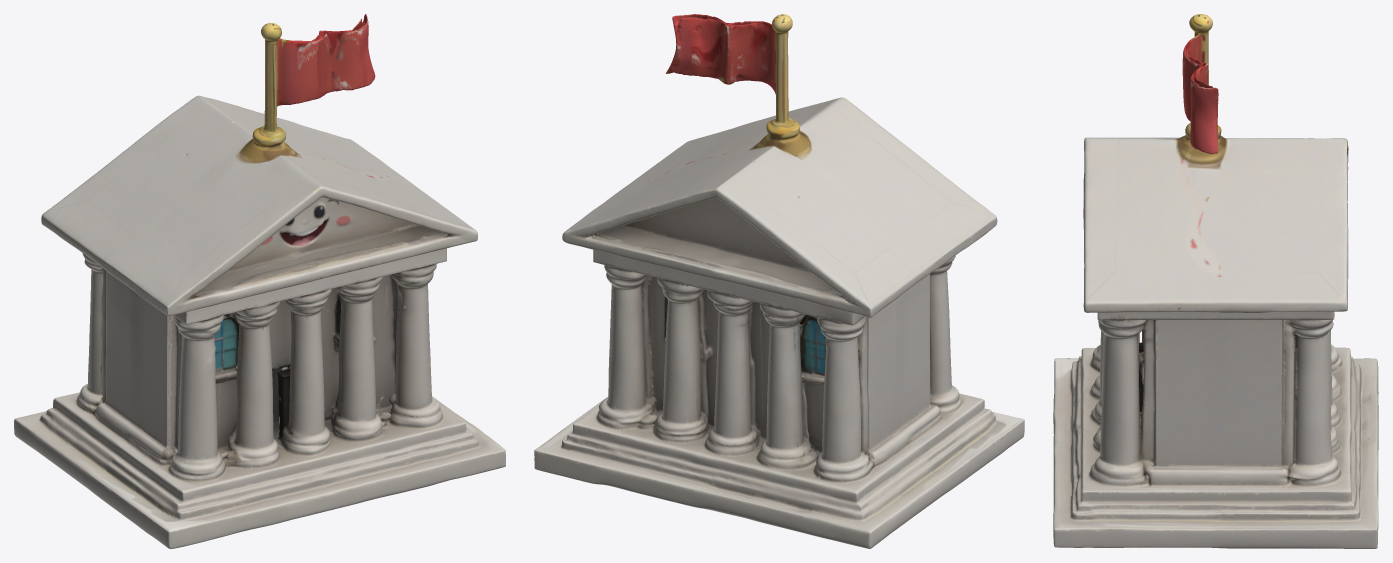
Rendered from goverment.glb.
3 renders of one model, left to right at view 1: azimuth 30°, elevation 25°; view 2: azimuth 150°, elevation 25°; view 3: azimuth 270°, elevation 25°, orthographic. The views are drawn at different scales.
Size of the model in its own units: 53659 by 65589 by 42904.
Materials: 1 (1 with a texture image).
